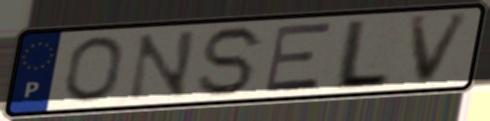E: (262, 20, 334, 95)
L: (327, 16, 395, 93)
N: (123, 27, 200, 103)
O: (62, 34, 125, 104)
S: (194, 24, 269, 100)
V: (407, 9, 476, 88)
